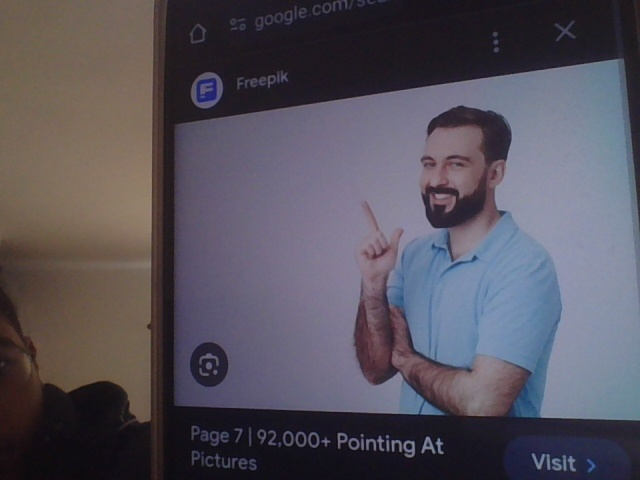fake: (398, 75, 508, 231)
